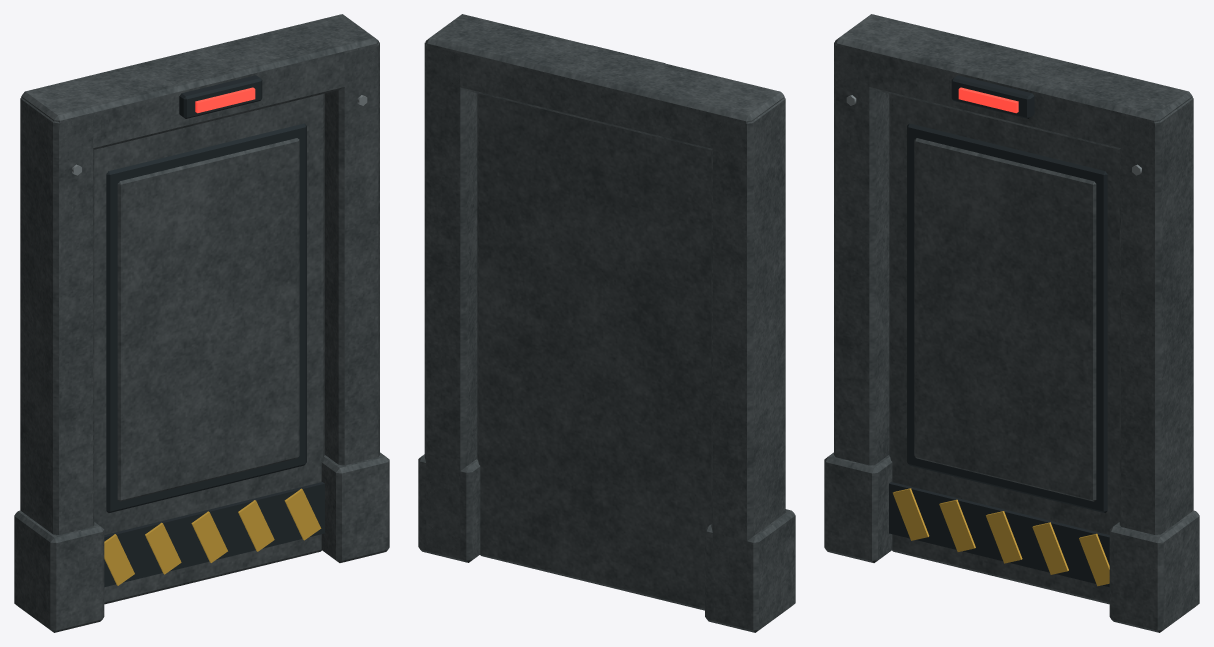
File: Q3_DOOR_v01.fbx
3 renders of one model, left to right at view 1: azimuth 30°, elevation 25°; view 2: azimuth 150°, elevation 25°; view 3: azimuth 330°, elevation 25°, orthographic.
Visible parts, largest first — view 1: LE_Q3_DOOR_Leaf, LE_Q3_DOOR_Frame; view 2: LE_Q3_DOOR_Leaf, LE_Q3_DOOR_Frame; view 3: LE_Q3_DOOR_Leaf, LE_Q3_DOOR_Frame.
Part boxes in pixels (bbox=[...]): LE_Q3_DOOR_Leaf: bbox=[94, 93, 324, 604]; LE_Q3_DOOR_Frame: bbox=[14, 14, 389, 632]; LE_Q3_DOOR_Leaf: bbox=[477, 93, 711, 610]; LE_Q3_DOOR_Frame: bbox=[418, 14, 795, 632]; LE_Q3_DOOR_Leaf: bbox=[889, 93, 1119, 604]; LE_Q3_DOOR_Frame: bbox=[824, 14, 1199, 632].
Size of the model in its own units: 1.64 by 2.37 by 0.3745.
5 materials, 1 textured.
